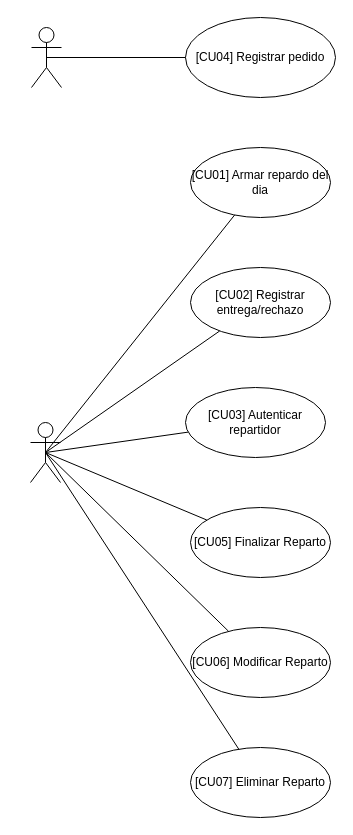
Image size: 353x835. Some labels were removed from this diagram. Each missing label, with the box of its shape:
Operario: (30, 26, 62, 88)
Repartidor: (30, 422, 60, 482)
